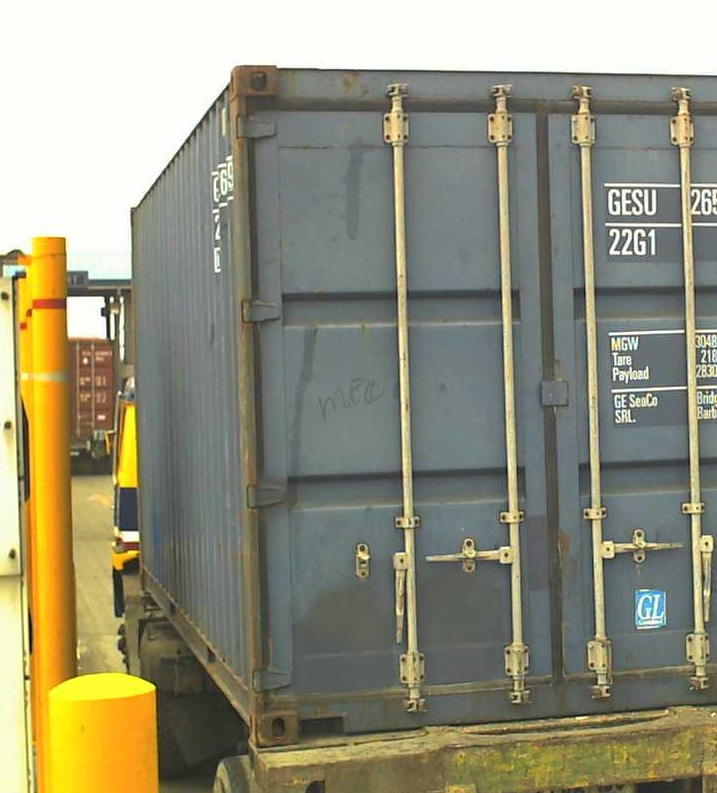container_door: (227, 57, 703, 739)
